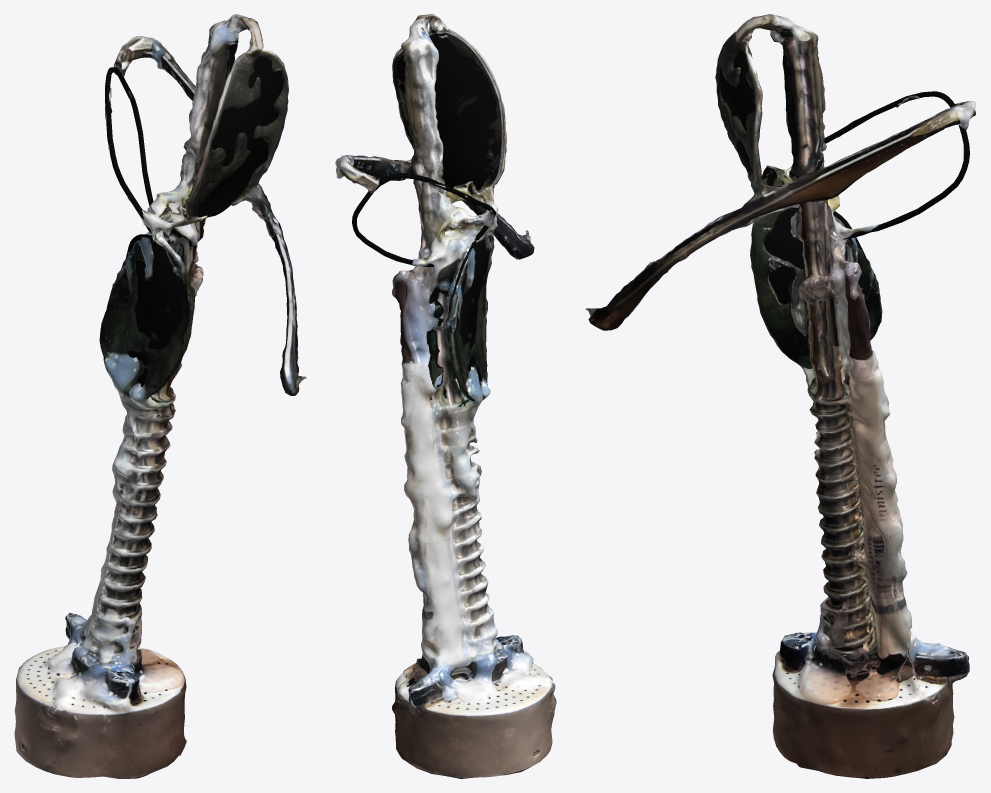
The picture shows the model from 3 angles, left to right: view 1: azimuth 30°, elevation 25°; view 2: azimuth 150°, elevation 25°; view 3: azimuth 270°, elevation 25°; orthographic projection. The views are drawn at different scales.
Visible parts, largest first — view 1: P19; view 2: P19; view 3: P19.
Part boxes in pixels (bbox=[...]): P19: bbox=[14, 14, 306, 778]; P19: bbox=[335, 14, 556, 778]; P19: bbox=[585, 14, 976, 778].
Size of the model in its own units: 0.2678 by 0.8931 by 0.4064.
Materials: 1 (1 with a texture image).
